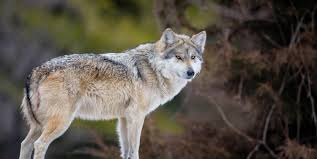Lobo: (20, 21, 215, 143)
